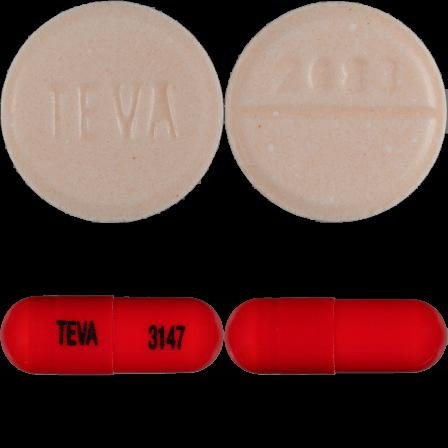66116-234: (0, 0, 224, 224)
